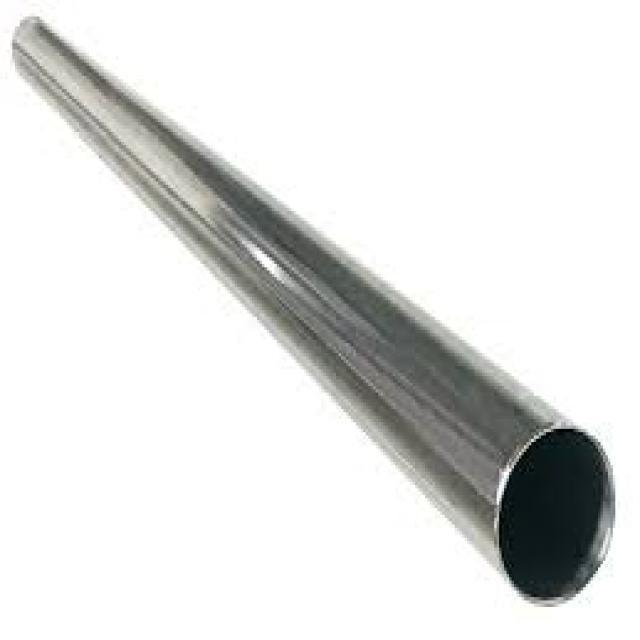pipe: (500, 430, 615, 600)
